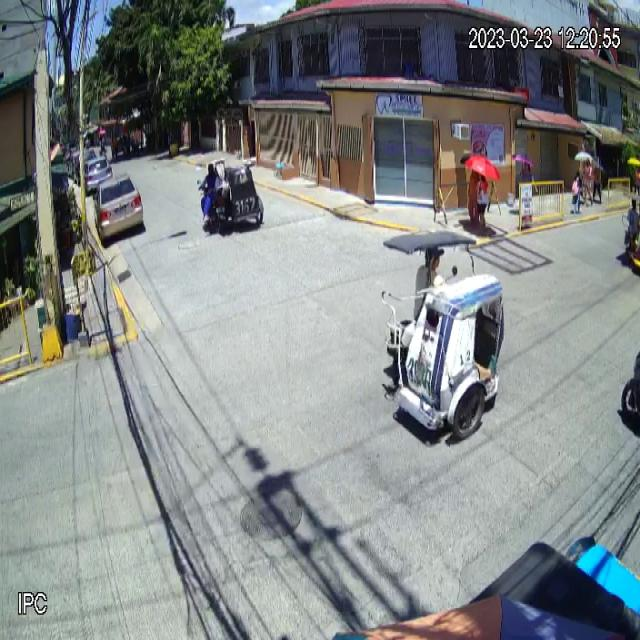Tricycle: (379, 230, 506, 441), (197, 152, 264, 235)
